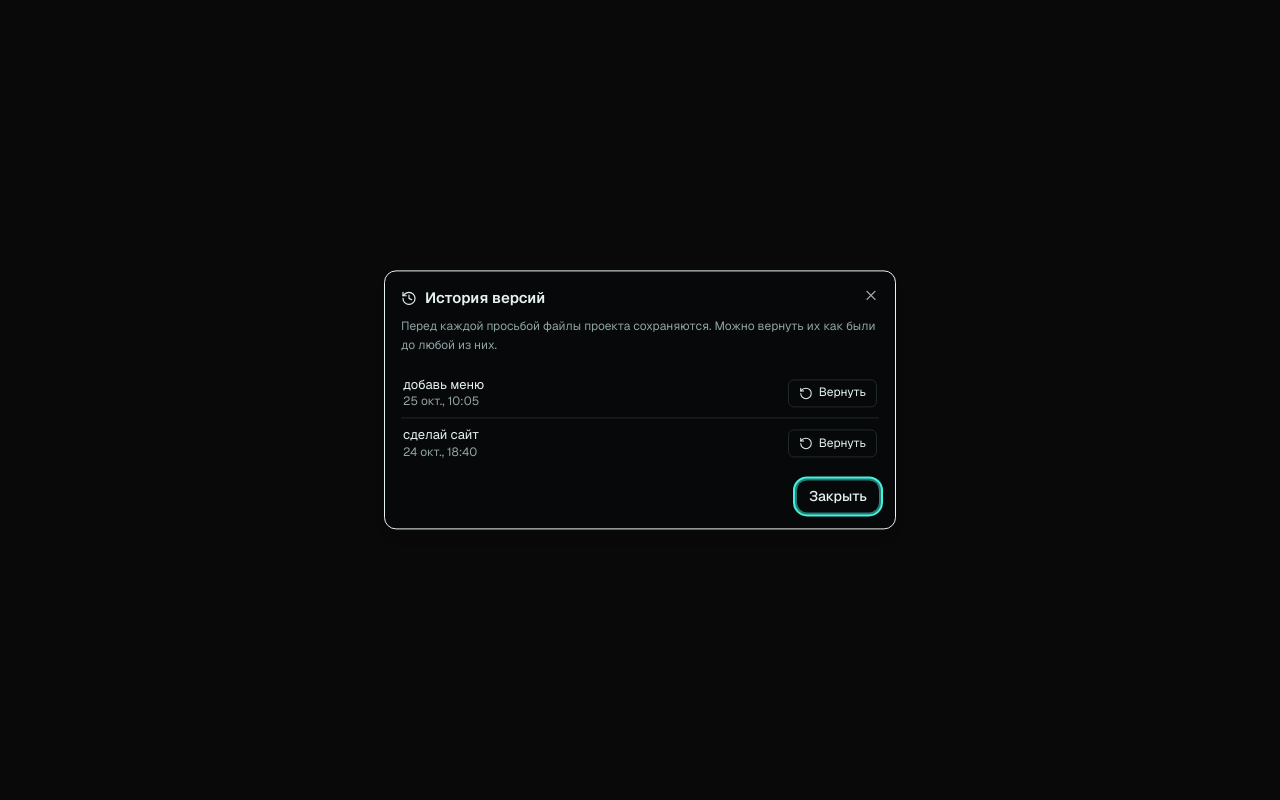
VersionHistoryDialog › lists versions newest first and goes back after a confirm
The image size is (1280, 800).
Click the button with test id "version-history-restore" in the row of "сделай сайт".
click(832, 444)  # box [788,430,877,458]
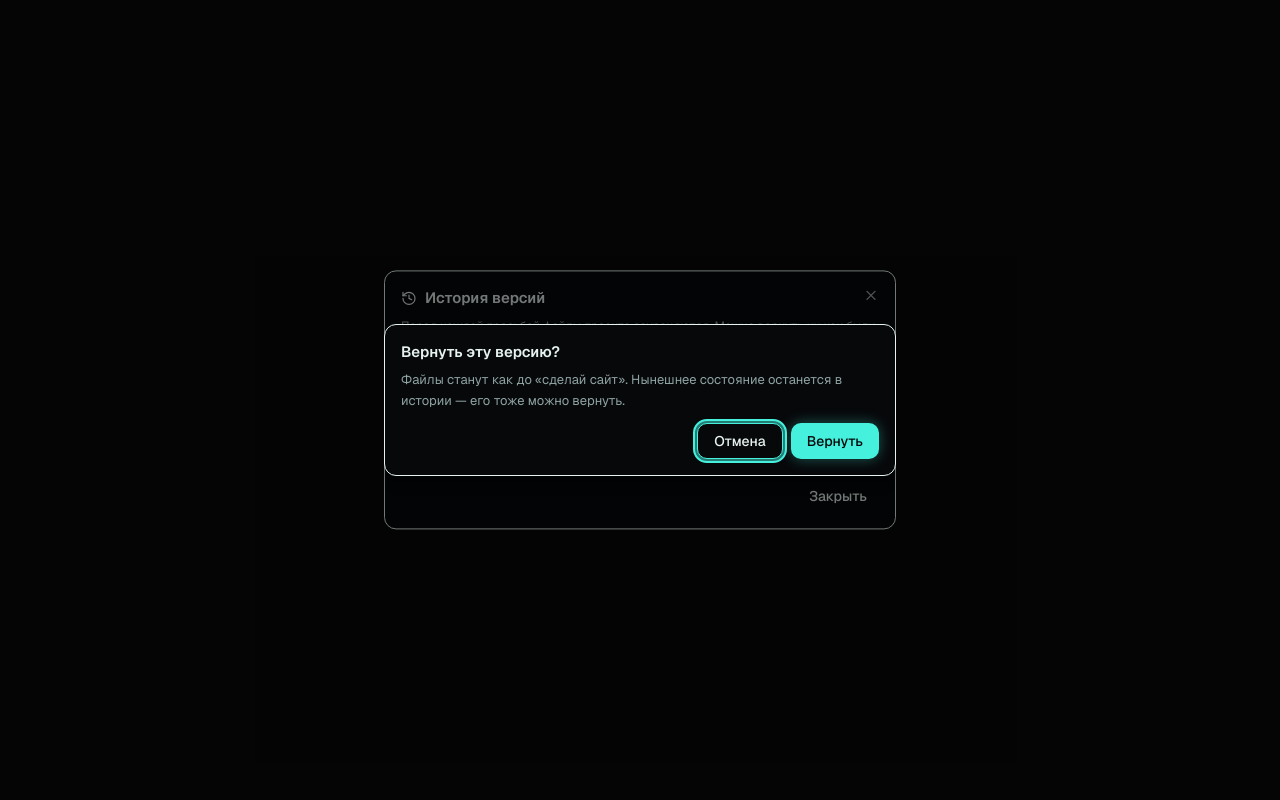
Expected: the dialog with test id "version-history-confirm" shows "Файлы станут как до «сделай сайт»", [401,371,846,409]
Click the button "Вернуть".
click(835, 441)  # box [791,423,879,459]
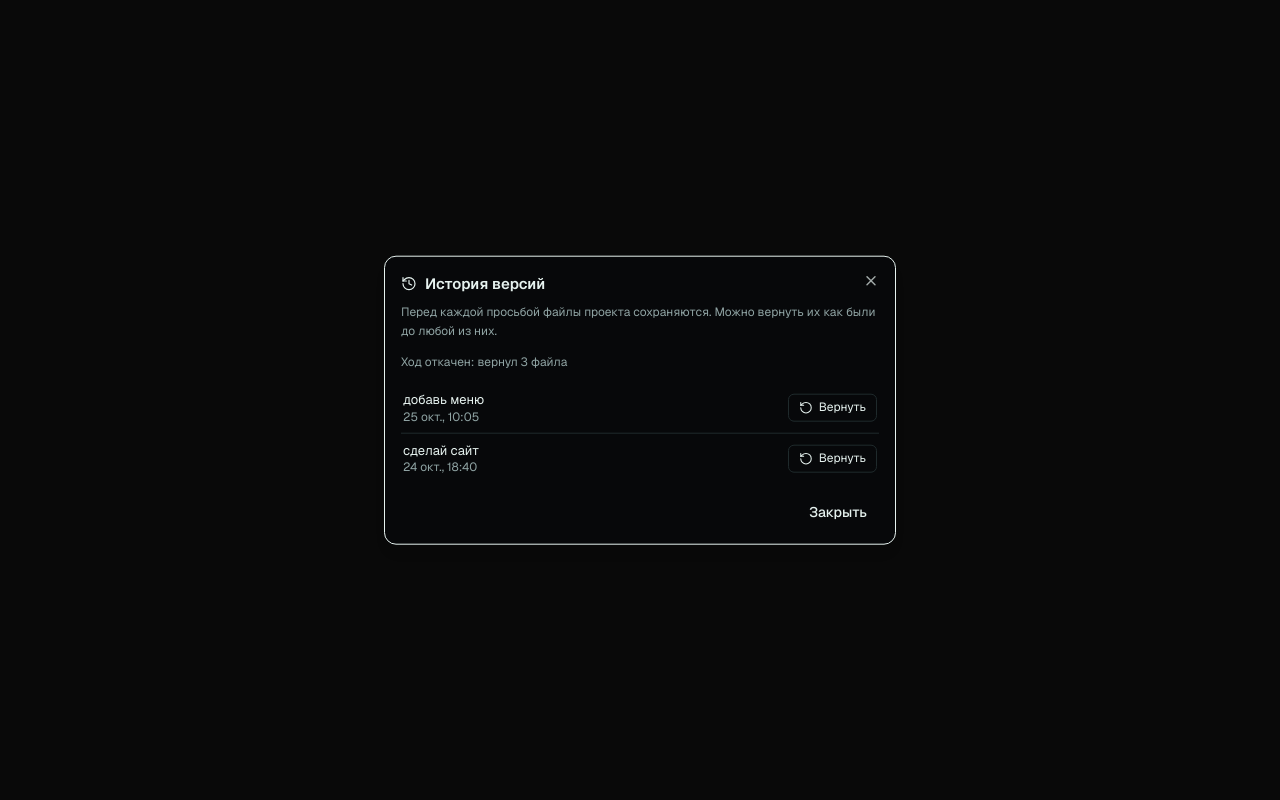
Expected: the message with test id "version-history-note" reads "Ход откачен: вернул 3 файла", [401,353,567,369]
